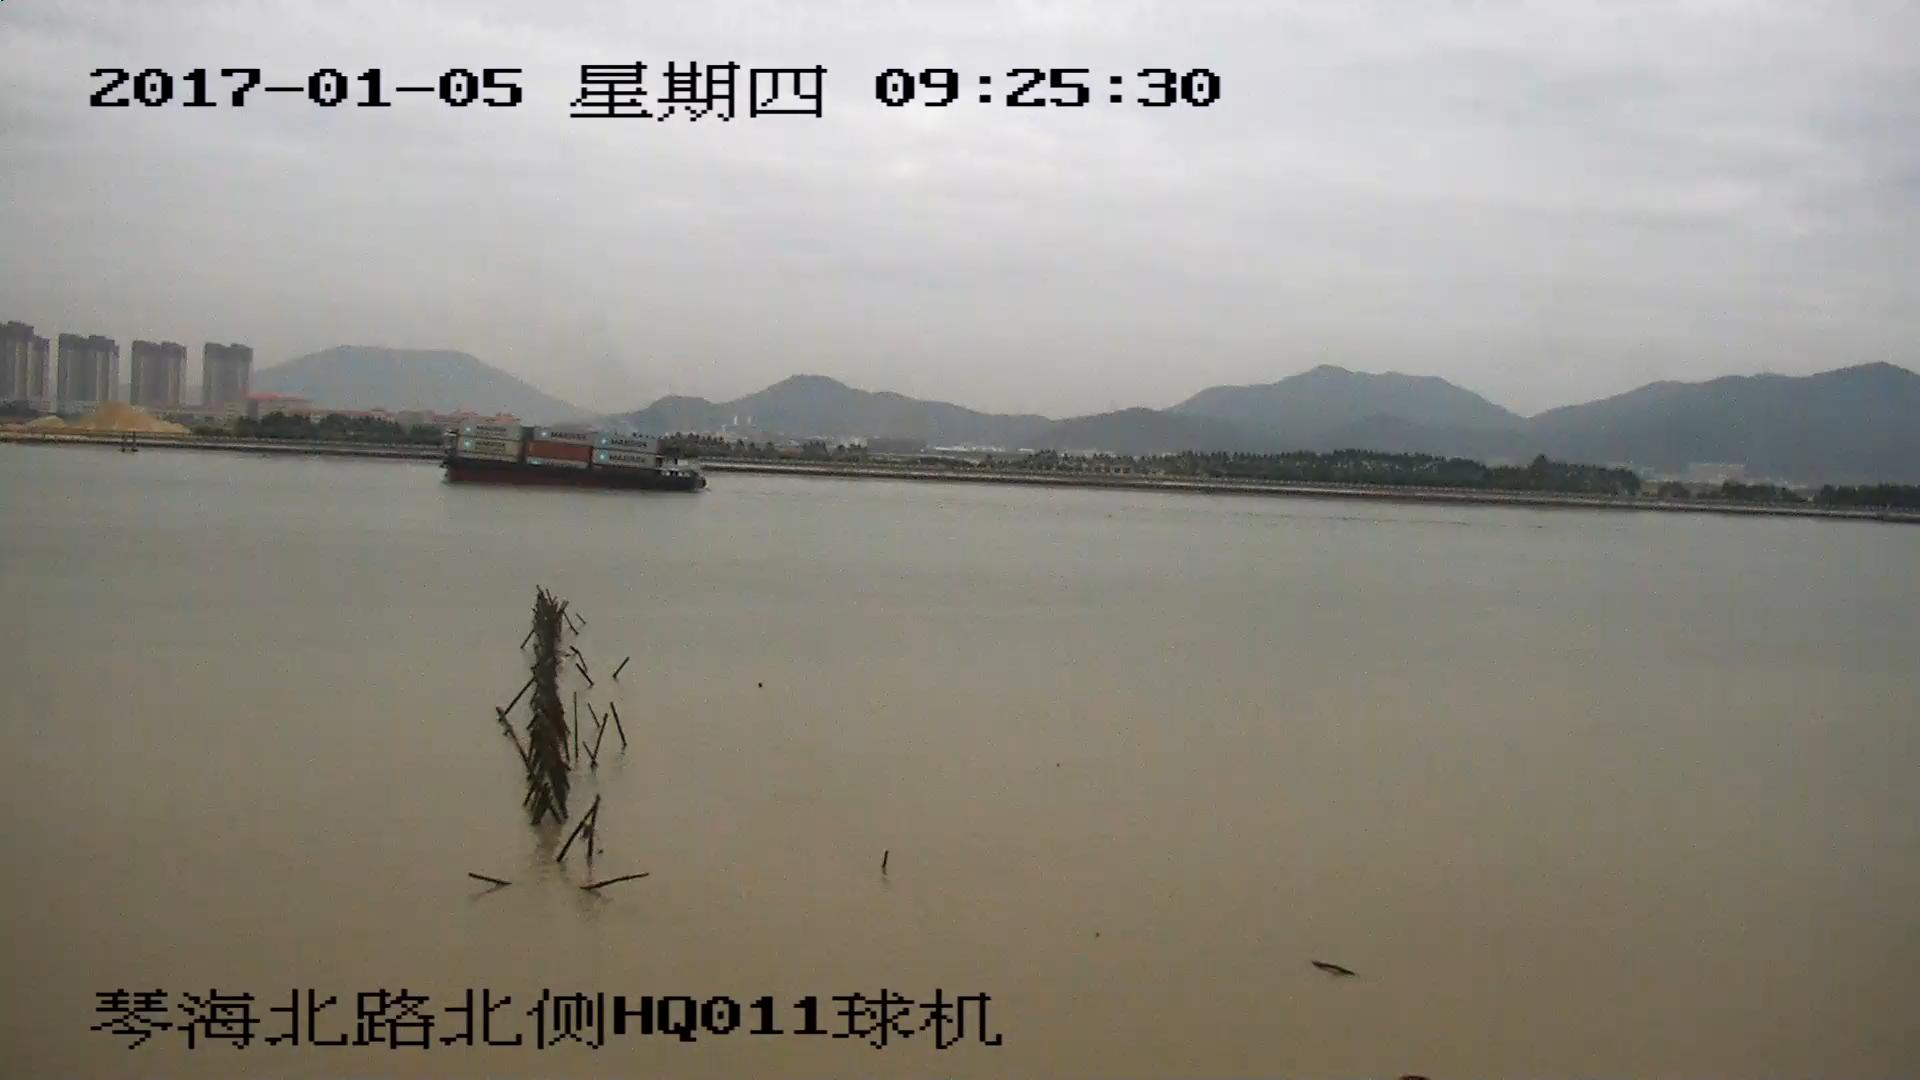container ship: (437, 426, 703, 494)
